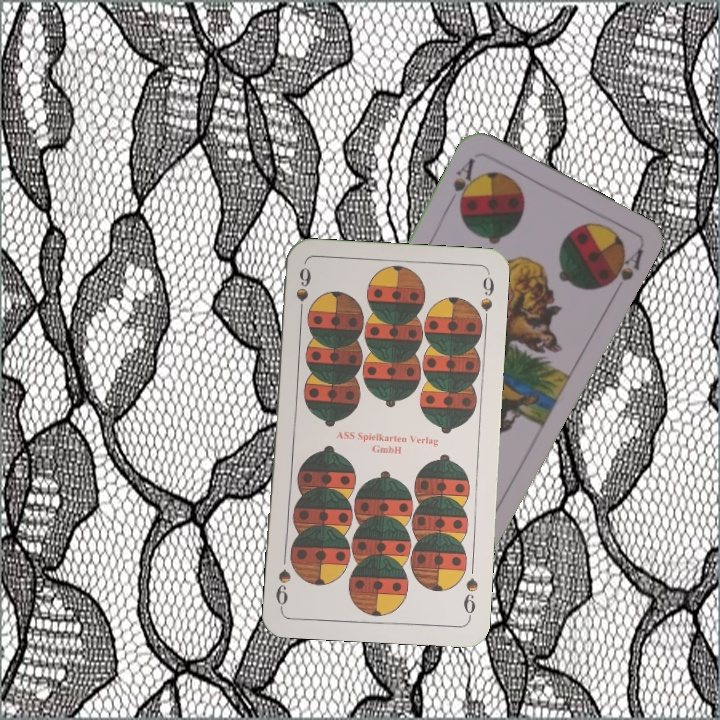S9: (292, 263, 314, 322), (459, 573, 481, 621)
SA: (449, 154, 480, 212)
